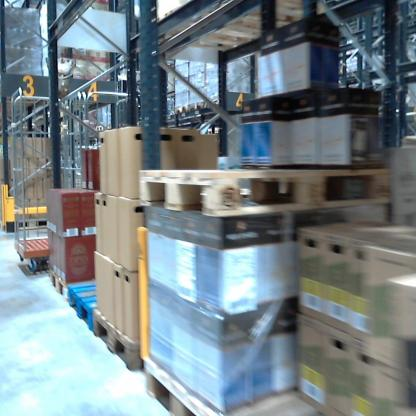pallet: (137, 147, 393, 220), (136, 1, 332, 61), (141, 356, 340, 414), (88, 306, 150, 380), (64, 275, 127, 334), (47, 263, 94, 319), (5, 215, 55, 243)
